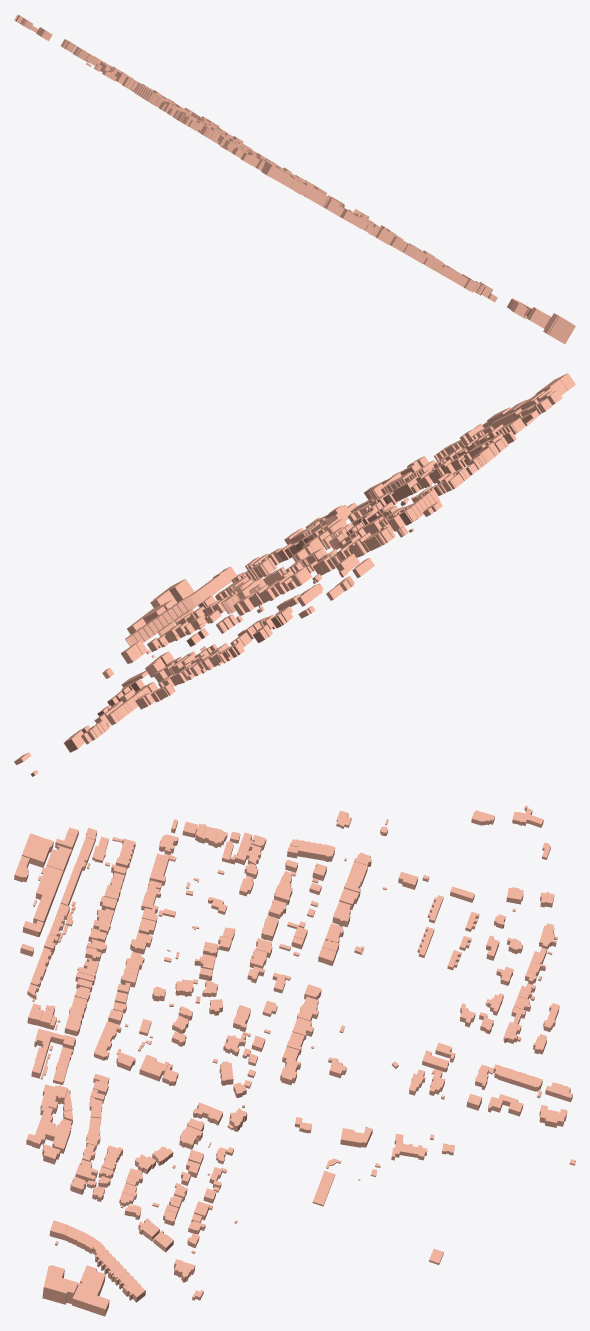
3 renders of one model, top to bottom at view 1: azimuth 30°, elevation 25°; view 2: azimuth 150°, elevation 25°; view 3: azimuth 270°, elevation 25°, orthographic. The views are drawn at different scales.
Size of the model in its own units: 546 by 390 by 635.
